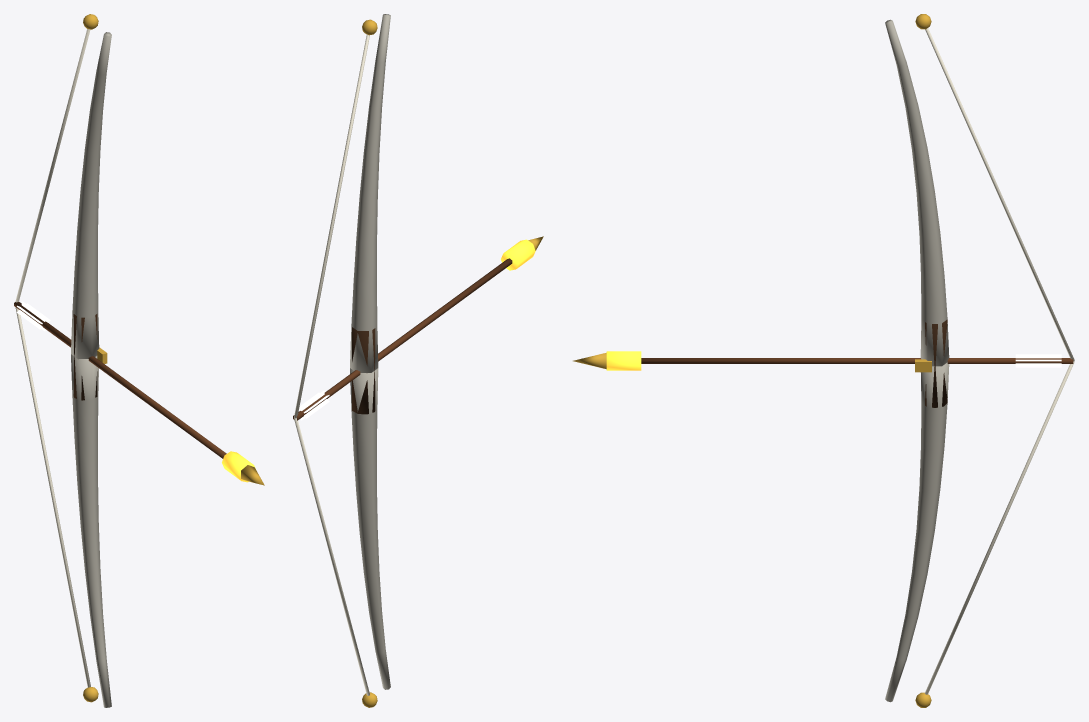
File: elven-bow.glb
3 renders of one model, left to right at view 1: azimuth 30°, elevation 25°; view 2: azimuth 150°, elevation 25°; view 3: azimuth 270°, elevation 25°, orthographic.
Visible parts, largest first — view 1: Model Mesh, Arrow Mesh, Nock Mesh; view 2: Model Mesh, Nock Mesh, Arrow Mesh; view 3: Model Mesh, Arrow Mesh, Nock Mesh.
Part boxes in pixels (x1=…): Model Mesh: x1=71, y1=14, x2=111, y2=707; Arrow Mesh: x1=14, y1=301, x2=264, y2=485; Nock Mesh: x1=15, y1=29, x2=90, y2=687; Model Mesh: x1=350, y1=14, x2=390, y2=707; Nock Mesh: x1=294, y1=34, x2=369, y2=695; Arrow Mesh: x1=293, y1=236, x2=543, y2=420; Model Mesh: x1=885, y1=14, x2=949, y2=707; Arrow Mesh: x1=573, y1=351, x2=1073, y2=370; Nock Mesh: x1=925, y1=28, x2=1074, y2=694.
Size of the model in its own units: 0.047 by 1.33 by 0.8728.
